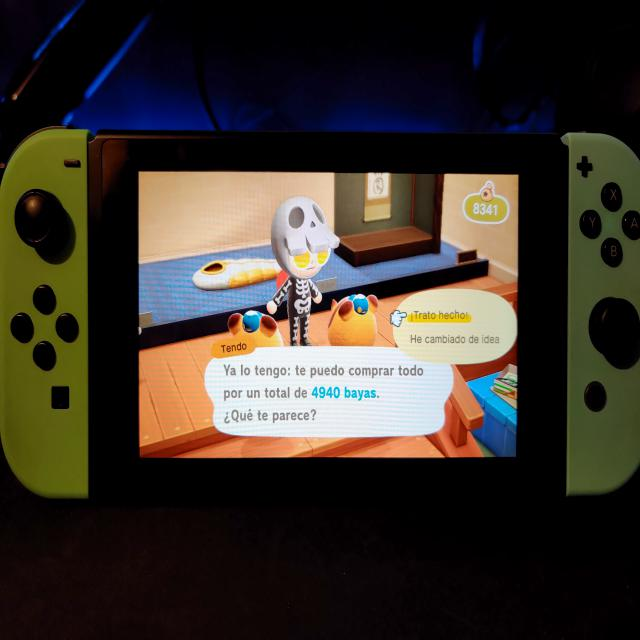text_bubble: (204, 333, 455, 442), (391, 287, 520, 370)
